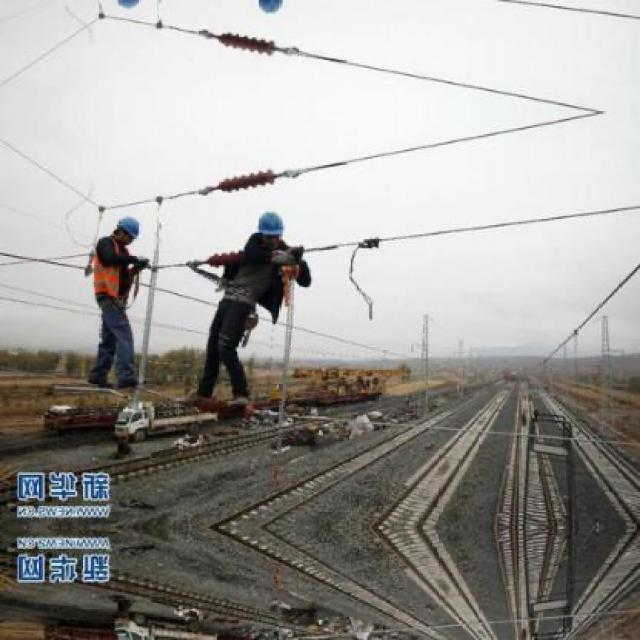helmet: (249, 205, 285, 248), (108, 208, 144, 248), (249, 0, 286, 22), (106, 0, 145, 19)
